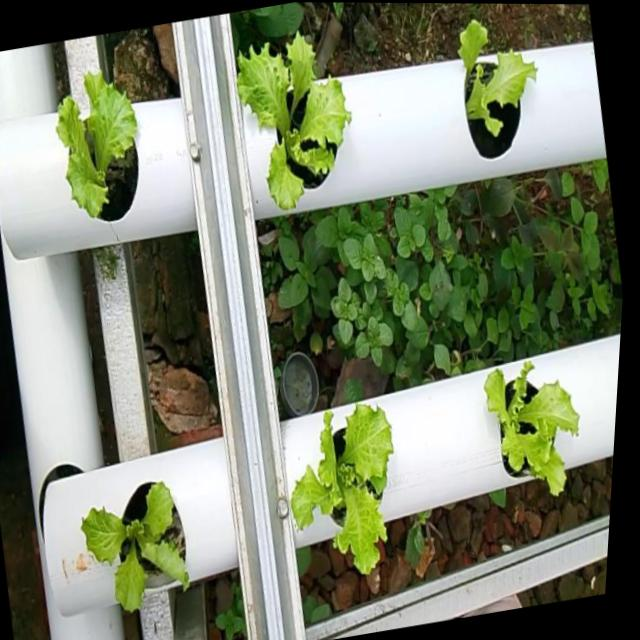Baby: (236, 28, 350, 209), (290, 402, 393, 573), (80, 480, 189, 612), (484, 360, 579, 495), (56, 72, 138, 221), (458, 20, 536, 160)
